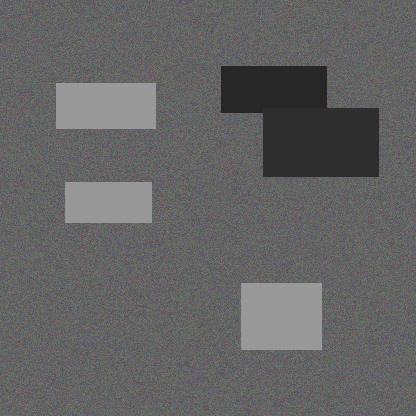empty: (227, 132, 307, 213), (126, 306, 197, 352)
